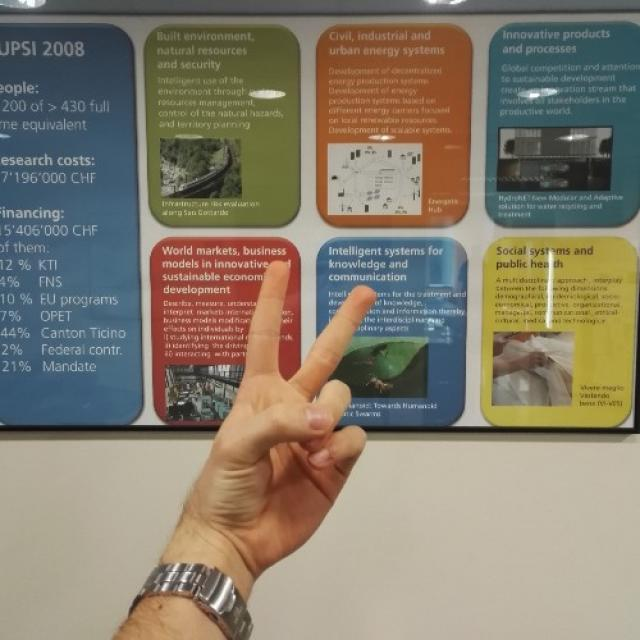scissors: (204, 258, 370, 498)
